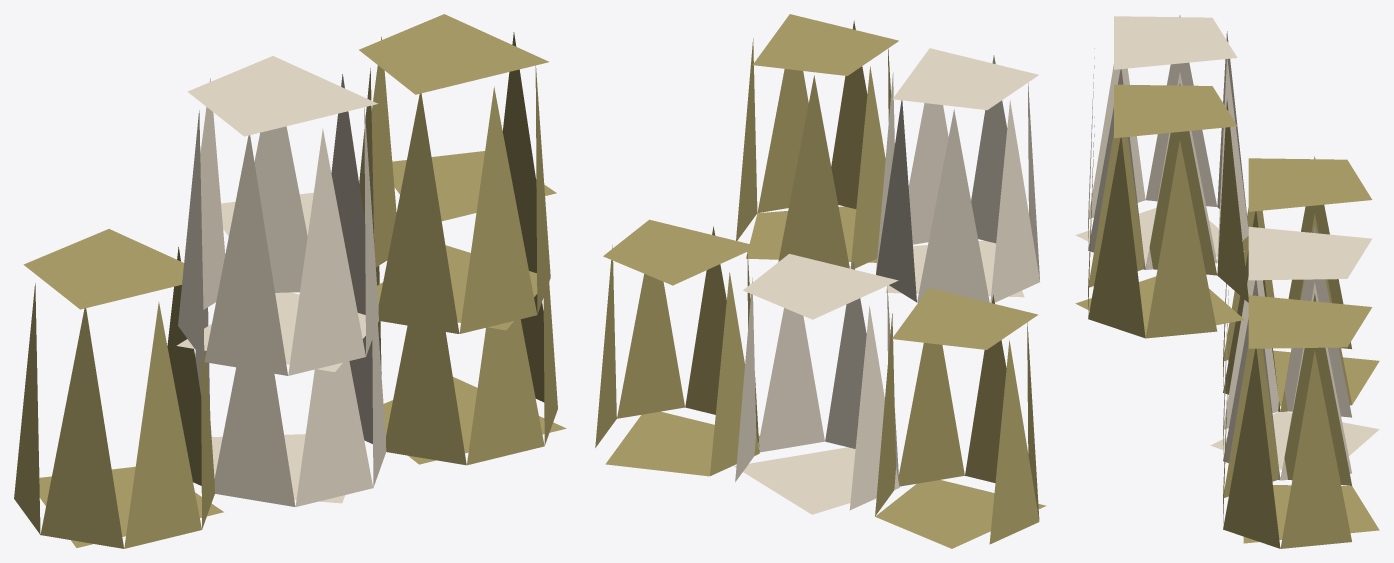
Rendered from prop_sacks_lod1.glb.
3 renders of one model, left to right at view 1: azimuth 30°, elevation 25°; view 2: azimuth 150°, elevation 25°; view 3: azimuth 270°, elevation 25°, orthographic. The views are drawn at different scales.
Visible parts, largest first — view 1: prop_sacks_lod1; view 2: prop_sacks_lod1; view 3: prop_sacks_lod1.
Boxes of the visible parts, bbox=[...] form: prop_sacks_lod1: bbox=[14, 14, 566, 548]; prop_sacks_lod1: bbox=[595, 14, 1046, 548]; prop_sacks_lod1: bbox=[1075, 15, 1379, 548].
Bounding box in the file's own units: 1.27 × 1.05 × 0.7905.
